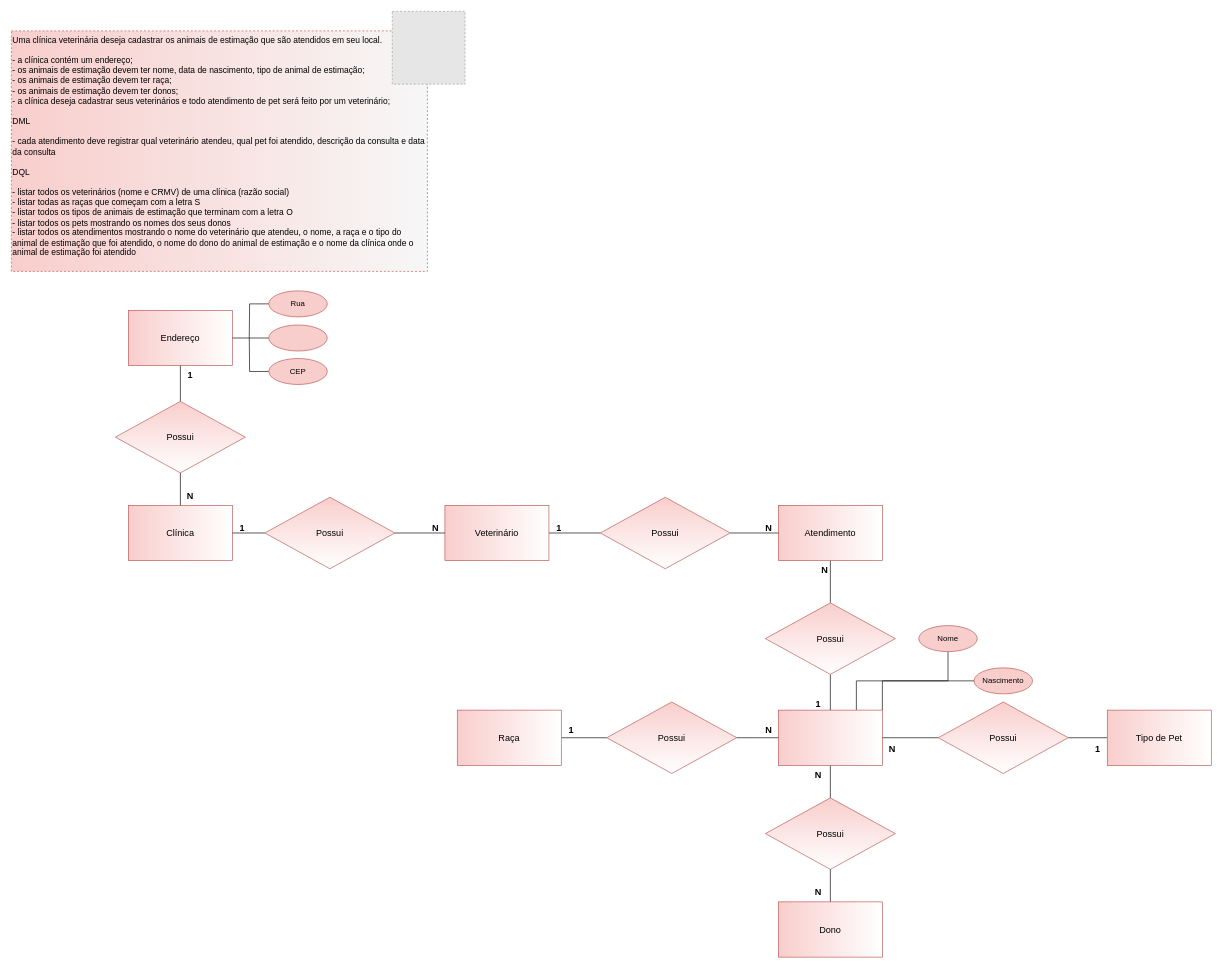
Some shapes in this 1223 by 968 pixel diagram are drawn without their labels. Grey dashed boxes stand in for pictures. The shapes that lost their labels are listed below. From the top down, each one's centre as x and y in pixels, then its label:
At (x=297, y=337): "Bairro".
At (x=830, y=737): "Pet".
